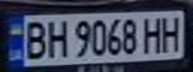0: (90, 17, 109, 57)
6: (106, 16, 124, 56)
8: (121, 16, 142, 55)
9: (69, 17, 93, 59)
B: (18, 18, 48, 61)
H: (157, 12, 187, 53), (42, 17, 69, 60), (139, 15, 166, 54)
